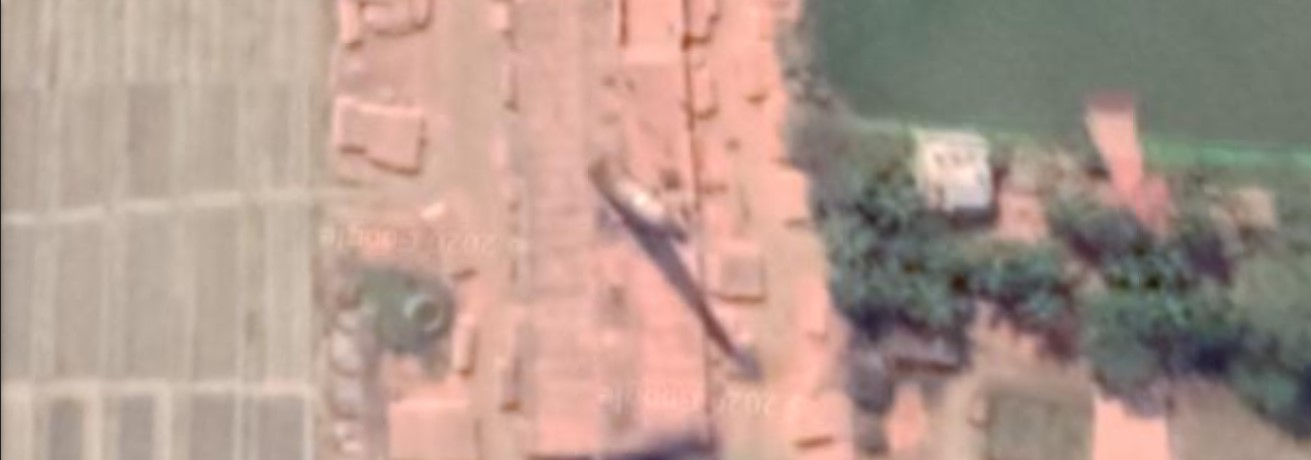kiln: (476, 19, 776, 427)
